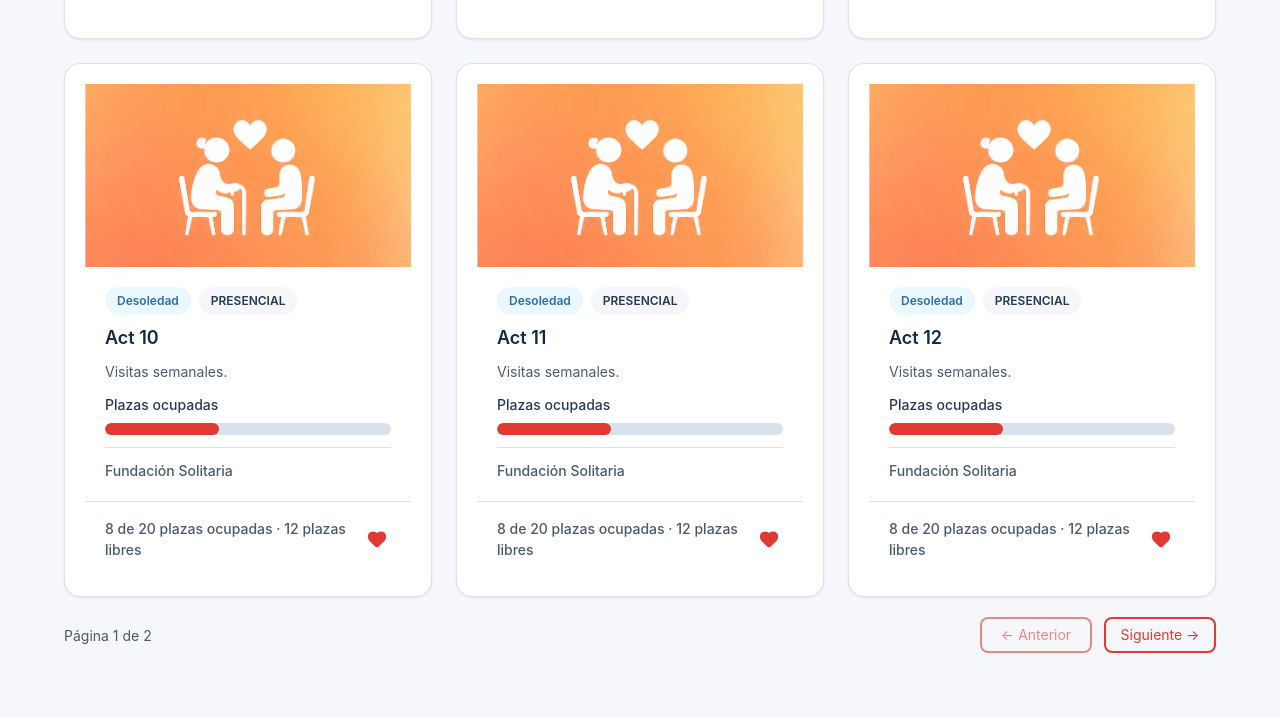
Test: CatalogPage › pagina en escritorio con Page y x-total-count
The width and height of the screenshot is (1280, 717).
(page scrolled)
Expected: the text "Página 1 de 2" is shown, [64,625,152,646]
Expected: the button "← Anterior" is disabled, [980,617,1092,653]
Click the button "Siguiente →" at point(1160, 635), box [1104,617,1216,653]
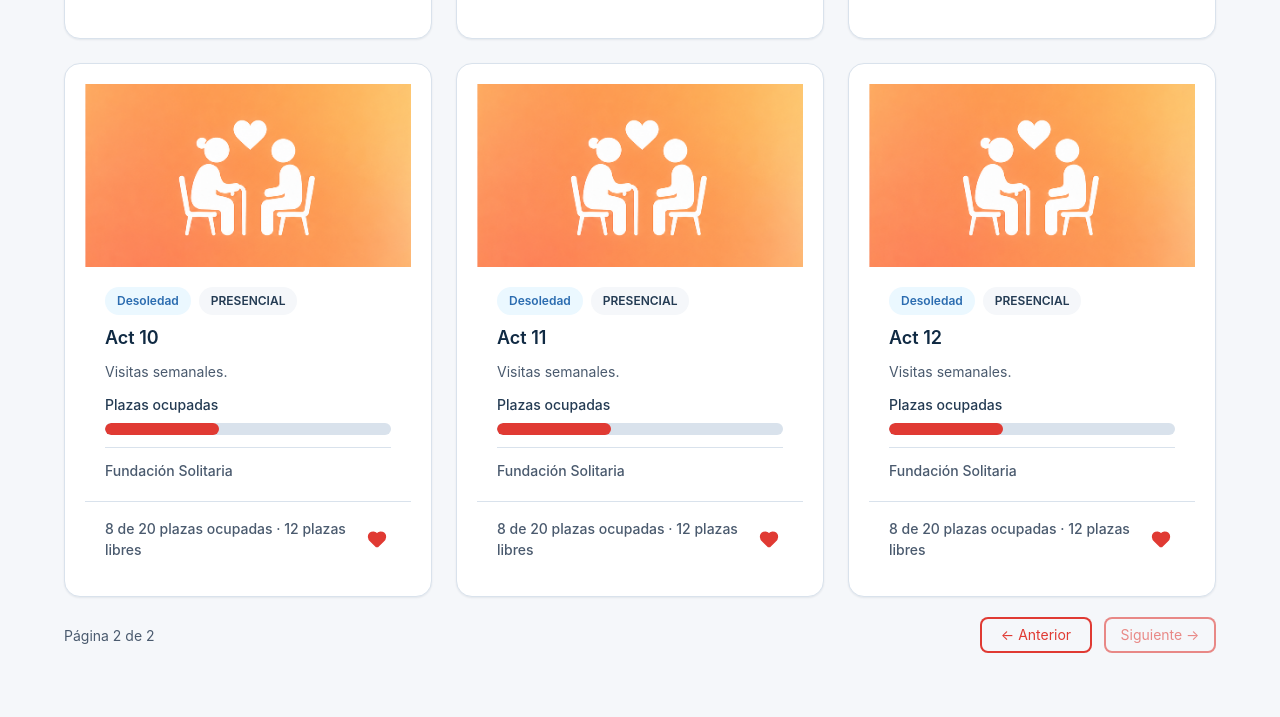
Now the text "Página 2 de 2" is shown, box [64,625,155,646]
Now the button "Siguiente →" is disabled, box [1104,617,1216,653]
Click the button "← Anterior" at point(1036, 635), box [980,617,1092,653]
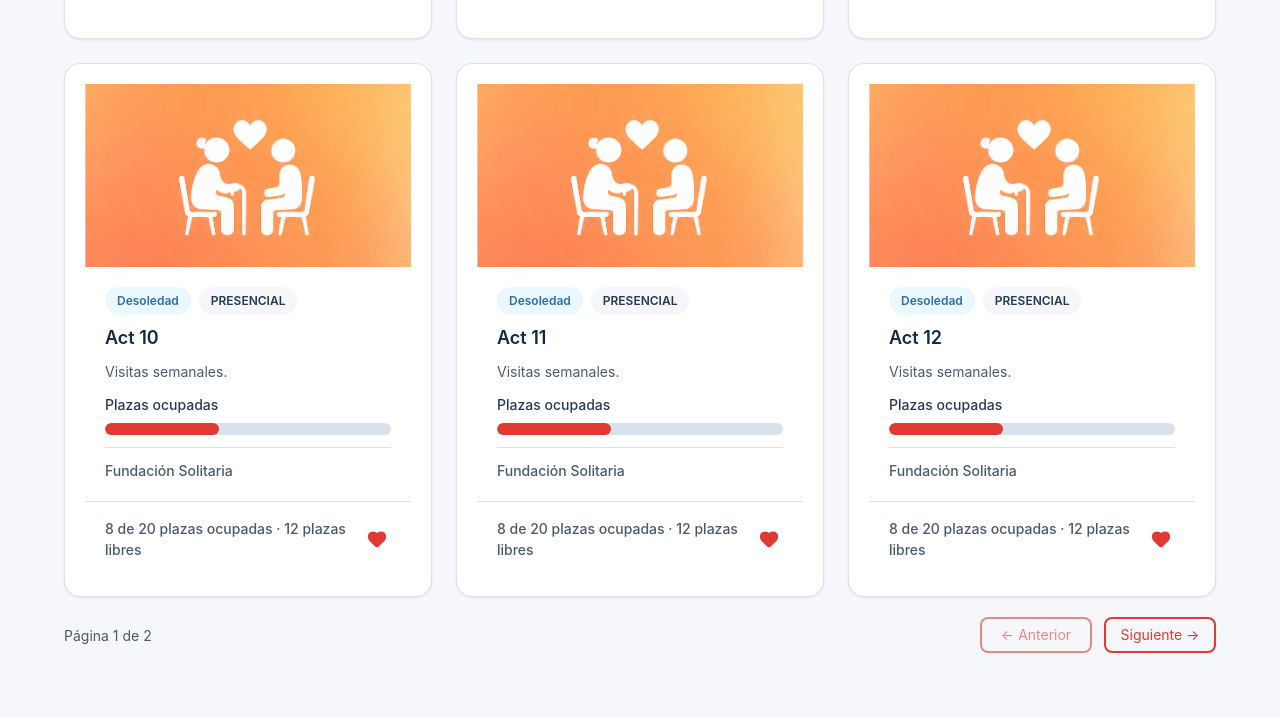
Now the text "Página 1 de 2" is shown, box [64,625,152,646]
